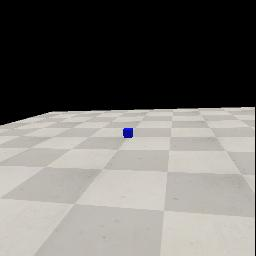box: (122, 128, 134, 139)
